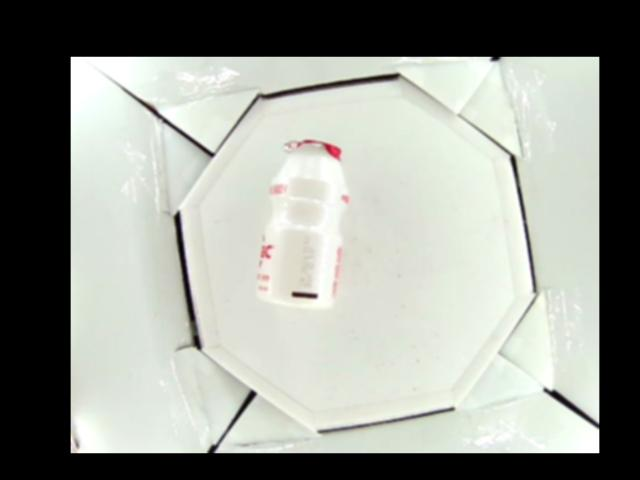Bottle: (256, 140, 349, 309)
